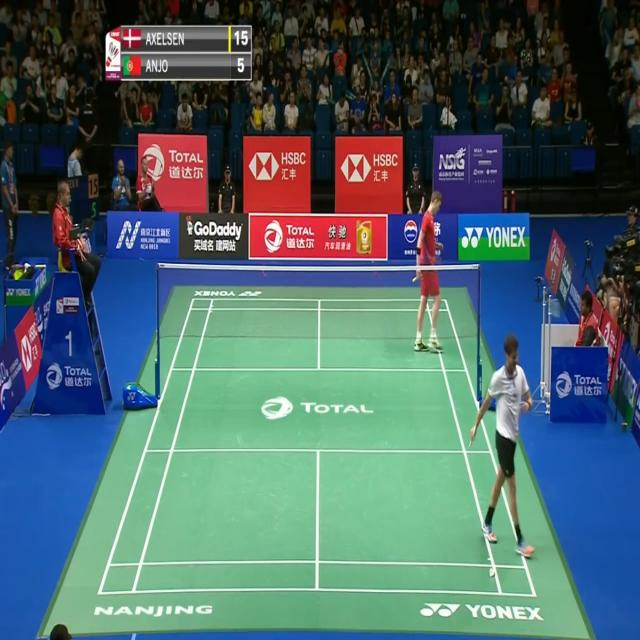Player1: (467, 336, 539, 563)
Player2: (408, 186, 450, 357)
